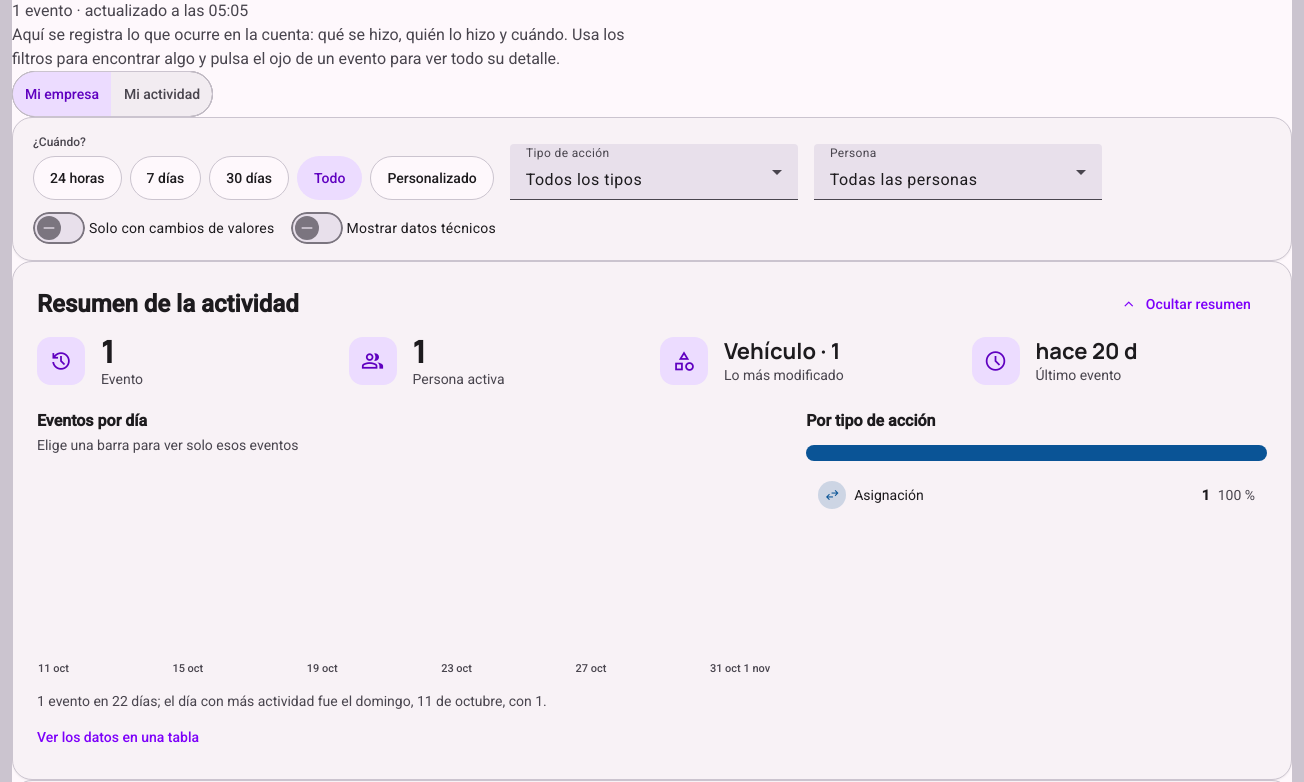
AuditListComponent › lectura de los eventos › con los datos técnicos la tarjeta añade la clave de la acción, y sin ellos no
The width and height of the screenshot is (1304, 782).
Click the switch next to "Mostrar datos técnicos": x=316, y=228 [290, 212, 342, 244]
(page scrolled)
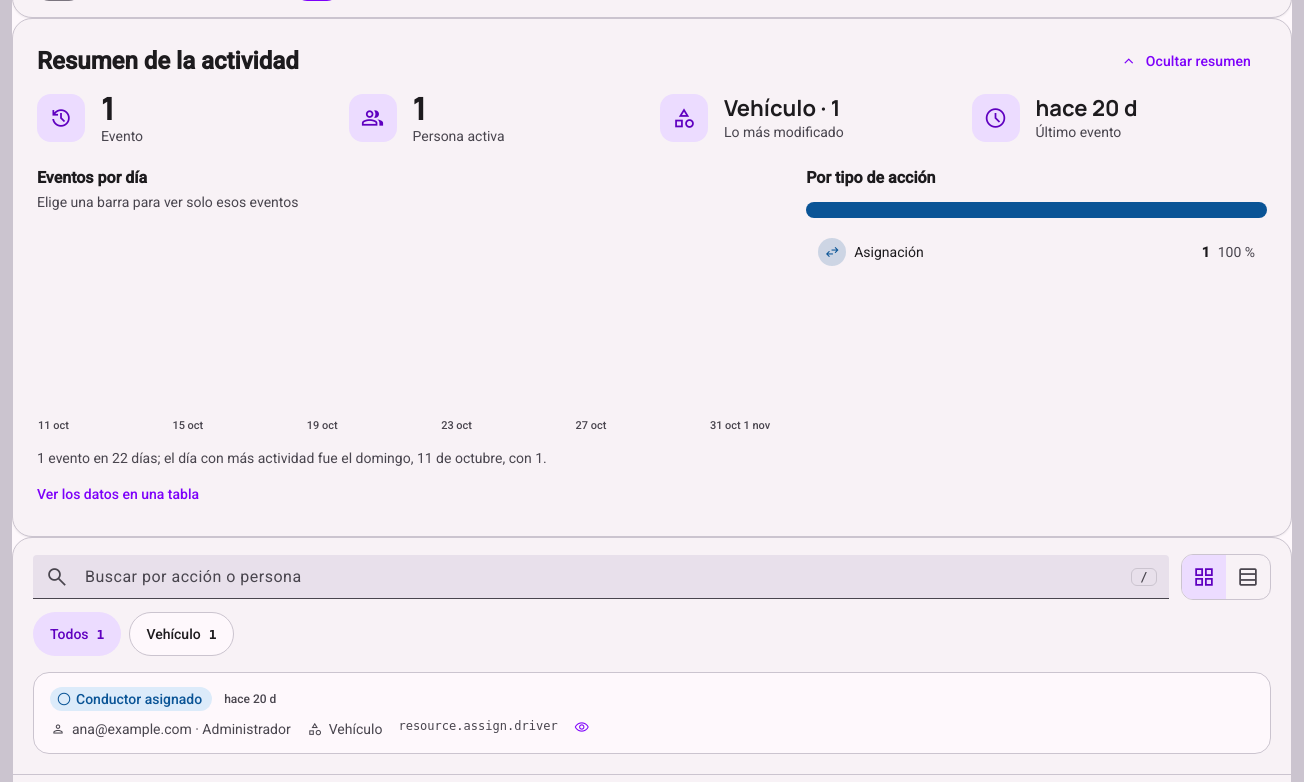
Check: the text with class "audit-key" reads "resource.assign.driver", box [398, 719, 558, 733]
